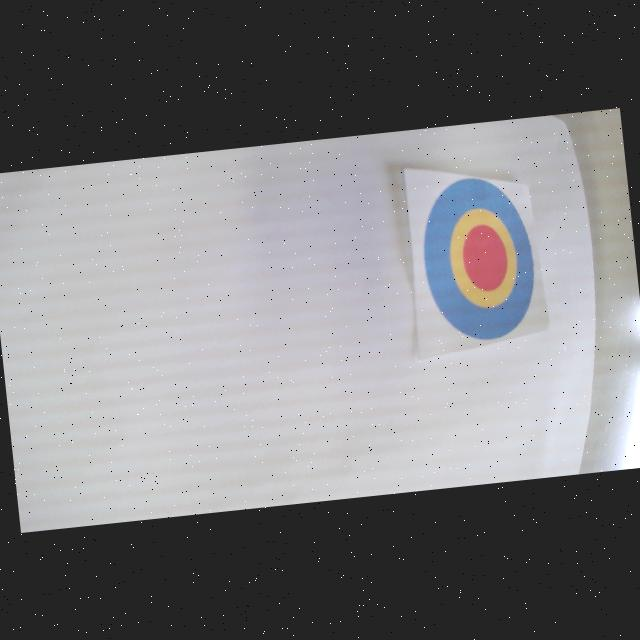COGNITIVE: (416, 171, 542, 345)
